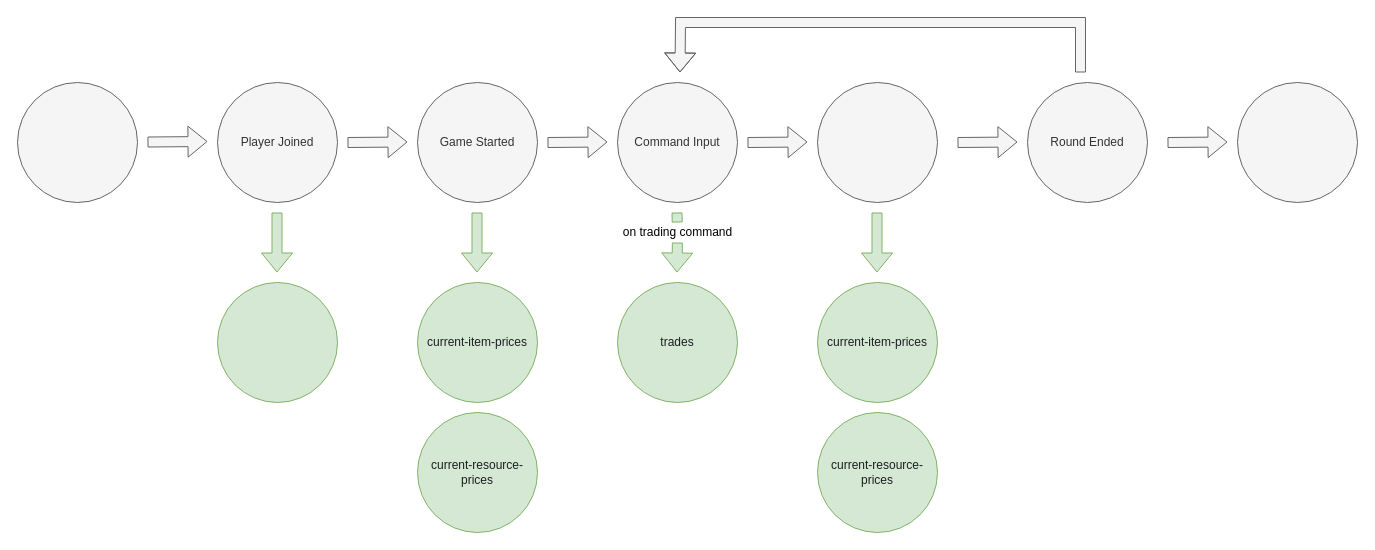
The diagram is 1375 pixels wide and 550 high, and some of its shapes have lost their labels. The centre of each missing label's shape, as x and y in pixels:
"bank-created" goes at (277,342).
"Game Created" goes at (77,142).
"Game Ended" goes at (1297,142).
"Round Started" goes at (877,142).
